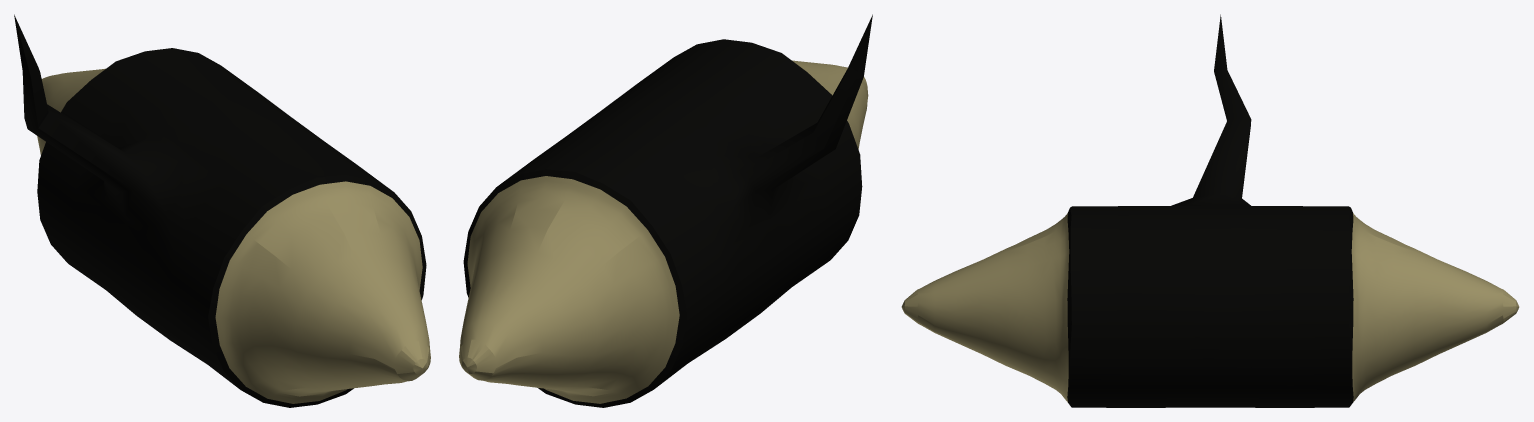
File: SM_buche-1mX1m_B_v01.FBX
3 renders of one model, left to right at view 1: azimuth 30°, elevation 25°; view 2: azimuth 150°, elevation 25°; view 3: azimuth 270°, elevation 25°, orthographic. The views are drawn at different scales.
Size of the model in its own units: 1.1 by 1.24 by 2.29.
